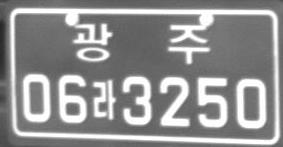0: (235, 77, 268, 129), (22, 72, 51, 123)
2: (159, 75, 191, 127)
3: (122, 75, 153, 126)
5: (197, 76, 229, 128)
6: (57, 73, 88, 124)
광주_D: (72, 23, 210, 65)
라: (92, 79, 118, 120)
